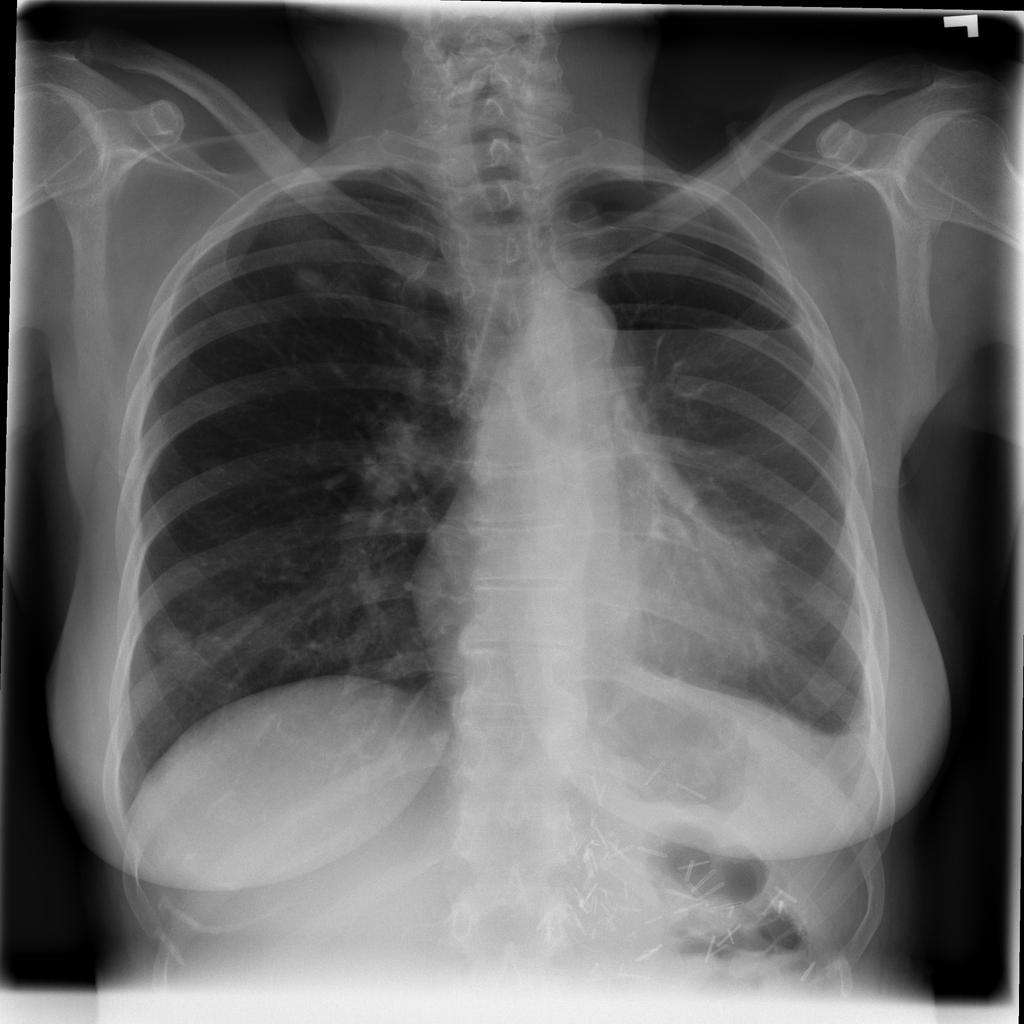nodule: (140, 612, 219, 678), (173, 437, 258, 498), (280, 259, 344, 300)
